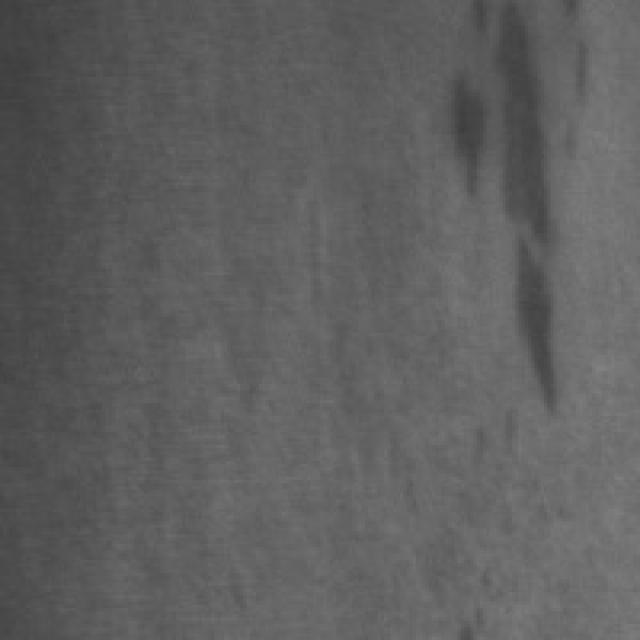inclusion: (477, 0, 595, 307), (506, 221, 579, 422), (445, 70, 499, 208)
